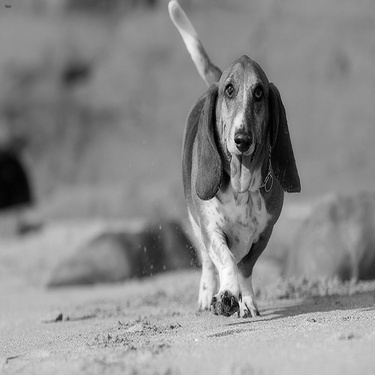dog: (149, 1, 305, 325)
